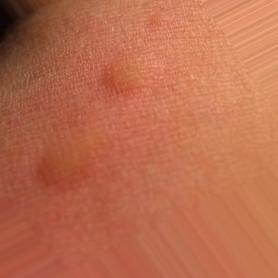Mosquito: (36, 127, 98, 193), (96, 51, 149, 104)
